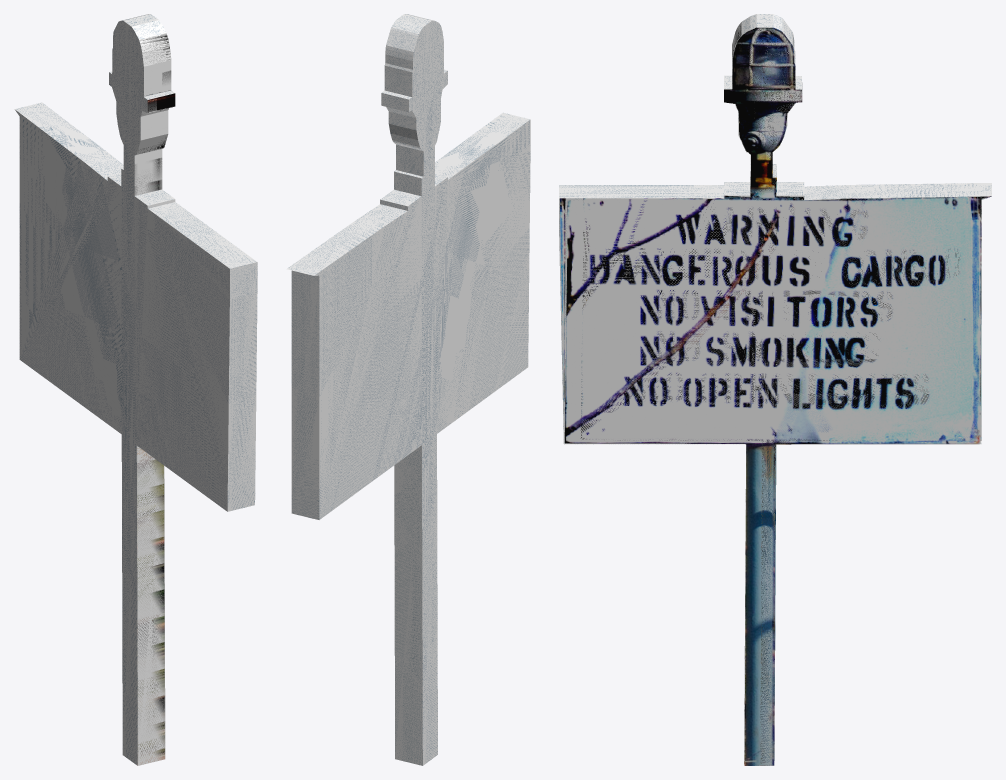
The model's file is Warning Dangerous Cargo2.fbx.
The picture shows the model from 3 angles, left to right: view 1: azimuth 30°, elevation 25°; view 2: azimuth 150°, elevation 25°; view 3: azimuth 270°, elevation 25°; orthographic projection.
Visible parts, largest first — view 1: Model; view 2: Model; view 3: Model.
Boxes of the visible parts, bbox=[...] form: Model: bbox=[14, 14, 257, 765]; Model: bbox=[286, 14, 530, 765]; Model: bbox=[559, 14, 991, 765].
Bounding box in the file's own units: 7.56 × 192 × 102.
